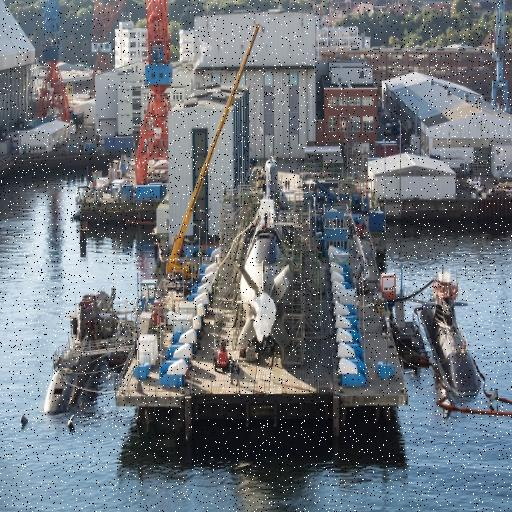submarine: (234, 143, 296, 354), (7, 256, 83, 424), (420, 261, 501, 414)
